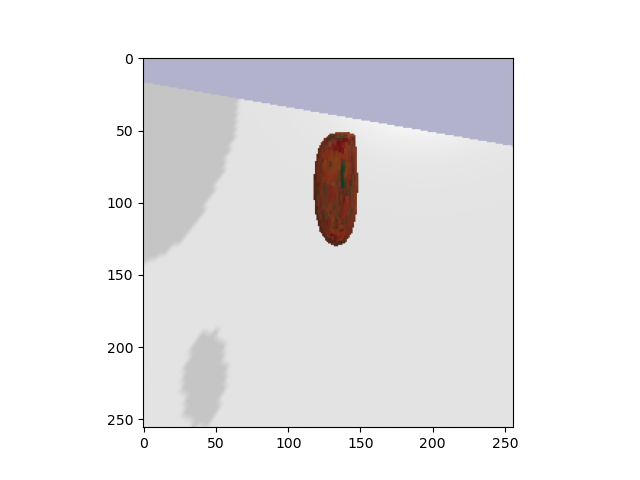v249b387_106: (307, 126, 370, 253)
